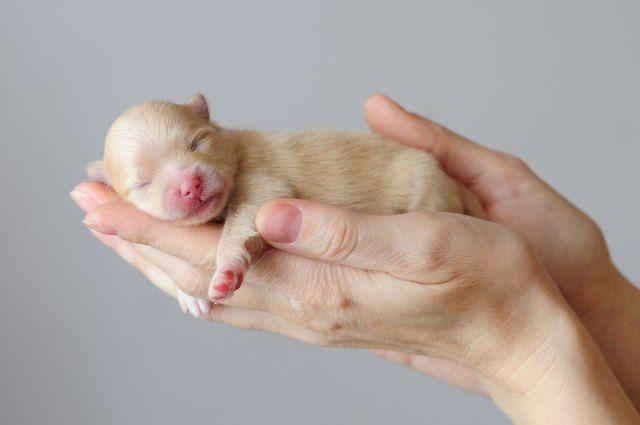puppy-dog: (84, 89, 487, 316)
